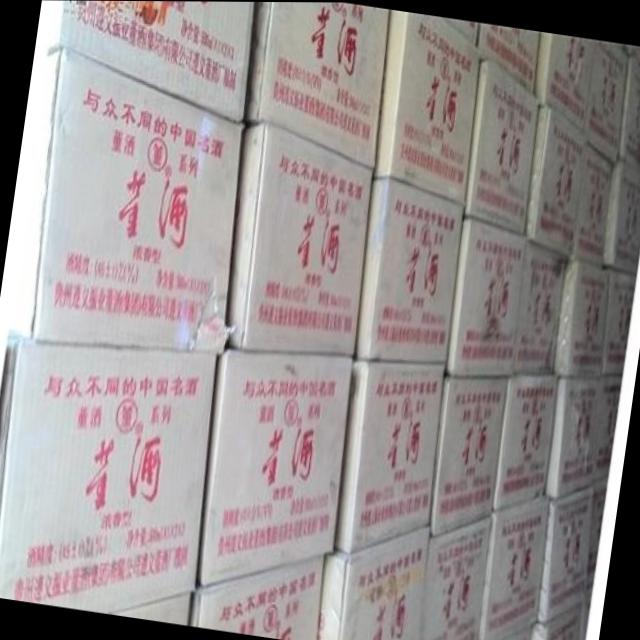box: (0, 46, 245, 353), (0, 339, 216, 612), (197, 349, 355, 590), (225, 118, 376, 354), (35, 0, 255, 118), (245, 1, 390, 167), (375, 10, 483, 204), (337, 359, 445, 553), (354, 176, 465, 361), (464, 61, 540, 235), (318, 523, 431, 640), (430, 374, 510, 537), (444, 215, 526, 374), (190, 551, 327, 640), (481, 492, 550, 640), (420, 510, 494, 640), (526, 103, 585, 256), (493, 373, 557, 510), (537, 481, 594, 621), (514, 237, 569, 374), (544, 372, 604, 497), (555, 257, 611, 378), (569, 137, 617, 268), (536, 32, 595, 130), (585, 41, 630, 160), (477, 22, 541, 94), (604, 160, 640, 274), (604, 269, 636, 375), (594, 373, 623, 481), (585, 474, 610, 596), (617, 55, 640, 172), (534, 595, 585, 640), (115, 592, 191, 622), (439, 18, 479, 43), (499, 620, 537, 640), (582, 587, 594, 640)
